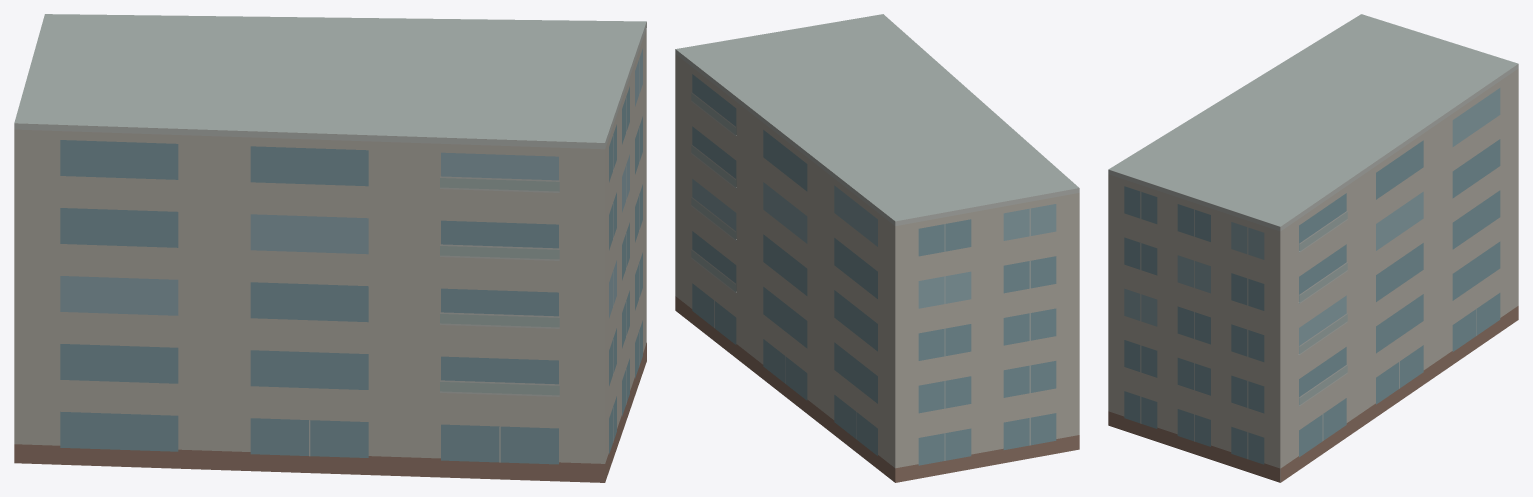
File: survey-upis-32670089.glb
3 views of the same model, side by side, from view 1: azimuth 30°, elevation 25°; view 2: azimuth 150°, elevation 25°; view 3: azimuth 270°, elevation 25° (orthographic). The views are drawn at different scales.
Visible parts, largest first — view 1: survey-upis-32670089.tmp; view 2: survey-upis-32670089.tmp; view 3: survey-upis-32670089.tmp.
Part boxes in pixels (left/top/right/bottom): survey-upis-32670089.tmp: left=14, top=14, right=646, bottom=482; survey-upis-32670089.tmp: left=675, top=14, right=1079, bottom=482; survey-upis-32670089.tmp: left=1108, top=14, right=1518, bottom=482.
Size of the model in its own units: 23.72 by 13.3 by 19.32.
